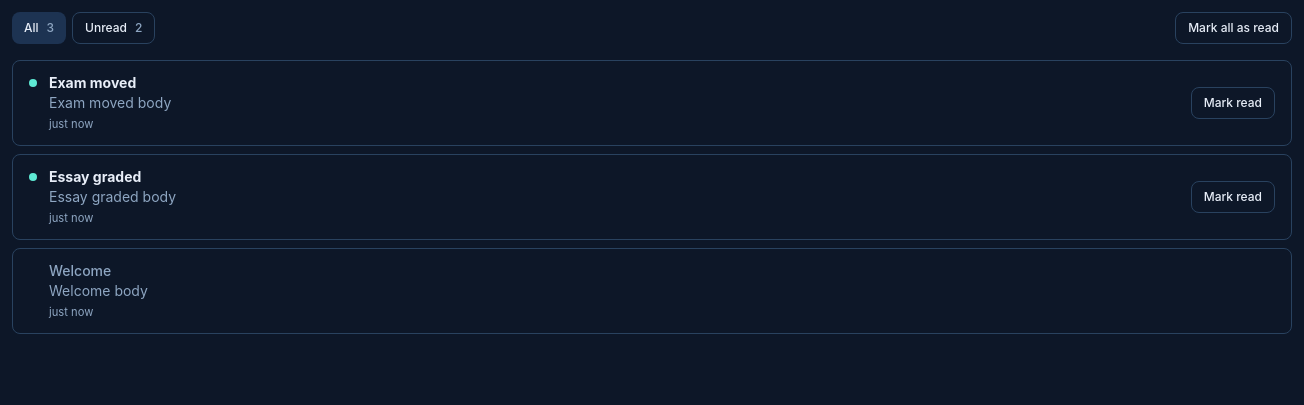
NotificationInbox › marks everything as read in one go, says how many, and tells the bell
Step 1. Click the button "Mark all as read" → {"x": 1234, "y": 28}, box [1175,12,1292,44]
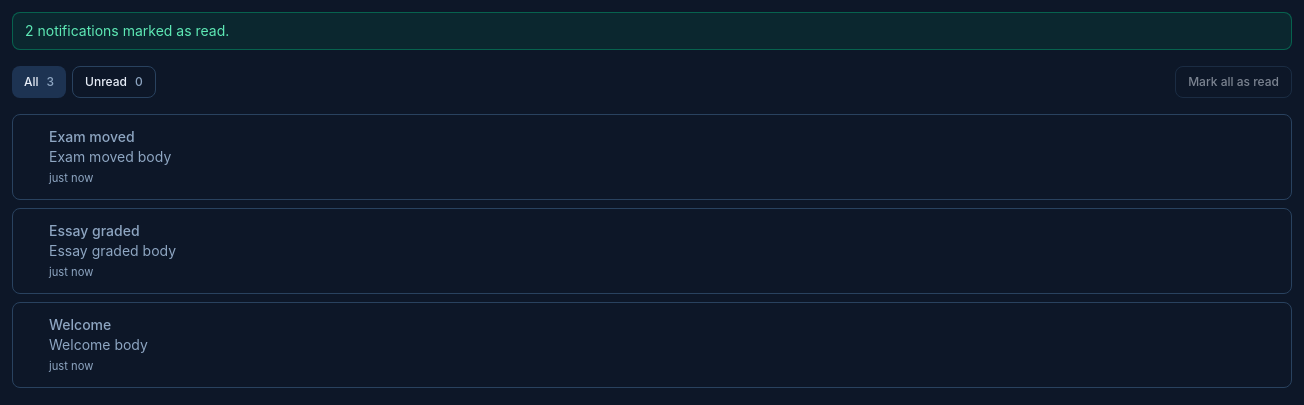
Expected: the text "2 notifications marked as read." is shown, [12,12,1292,50]
Expected: the button "Mark all as read" is disabled, [1175,66,1292,98]
